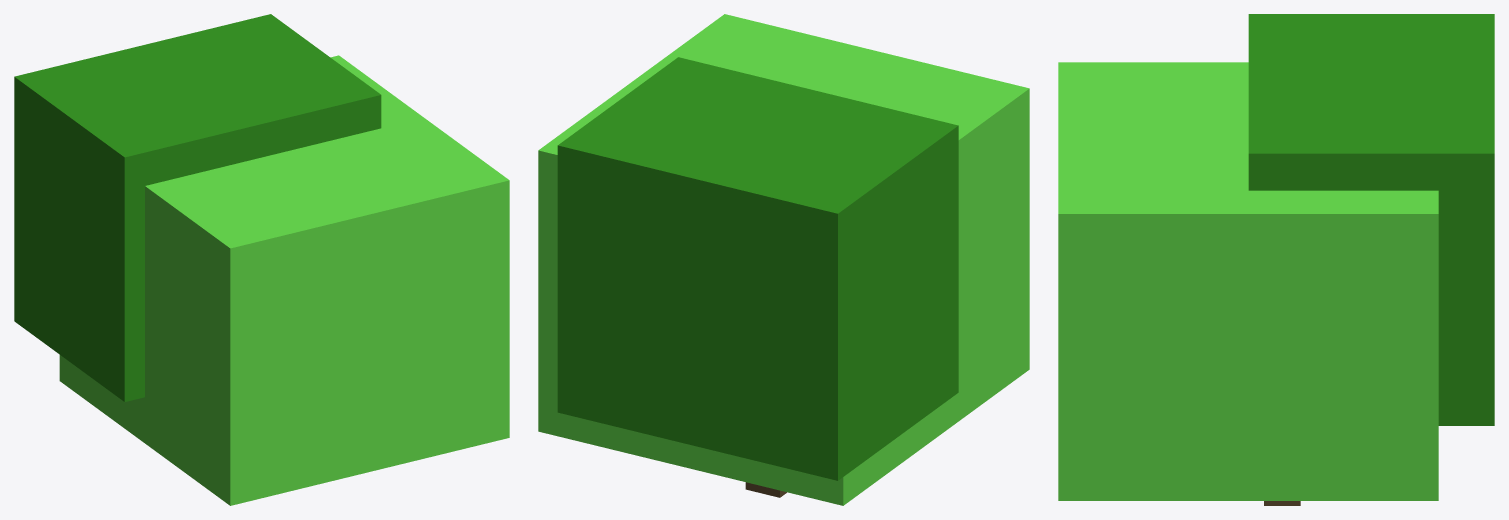
File: Bush1.fbx
3 renders of one model, left to right at view 1: azimuth 30°, elevation 25°; view 2: azimuth 150°, elevation 25°; view 3: azimuth 270°, elevation 25°, orthographic. The views are drawn at different scales.
Parts seen in each view (by area): view 1: Bush; view 2: Bush; view 3: Bush.
Boxes of the visible parts, left/top/right/bottom form: Bush: left=14, top=14, right=509, bottom=505; Bush: left=538, top=14, right=1029, bottom=505; Bush: left=1058, top=14, right=1494, bottom=500.
Bounding box in the file's own units: 244 × 278 × 276.
